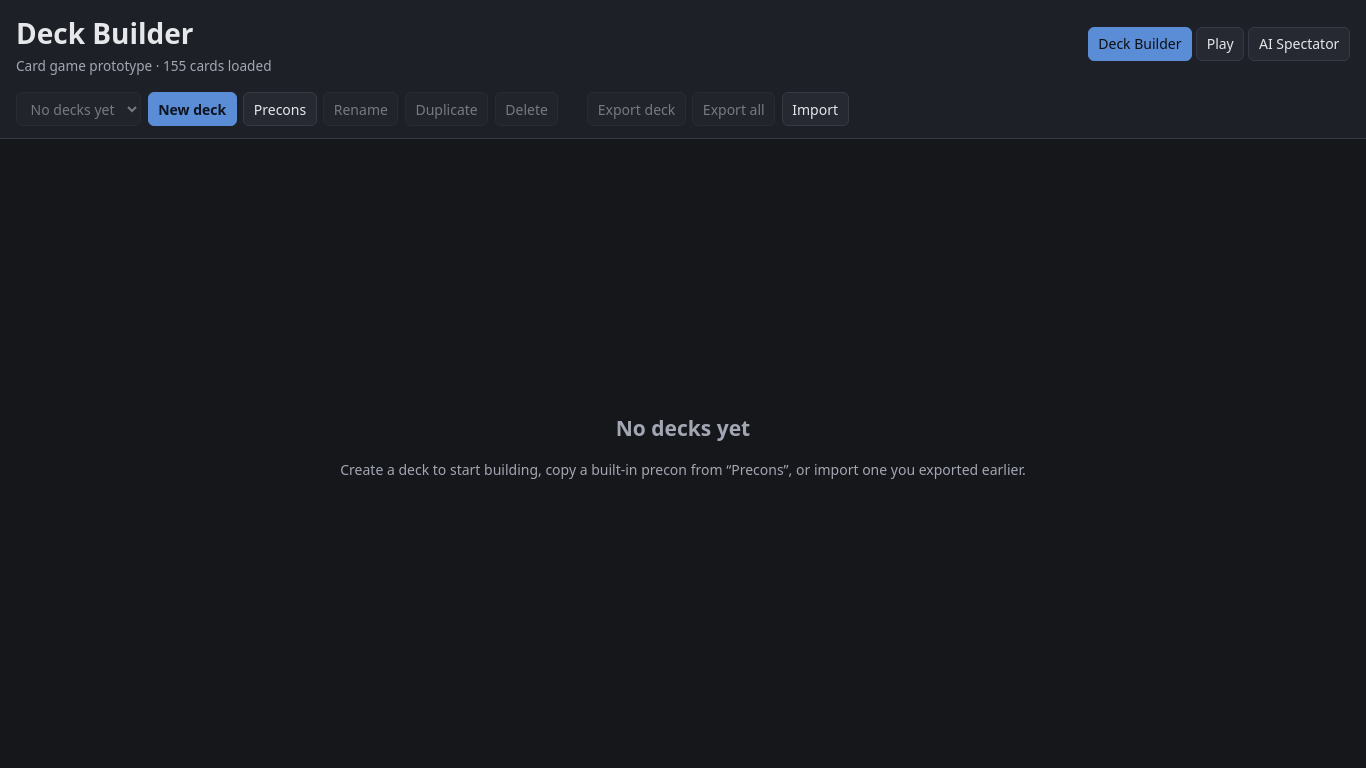
it: precon browser › inspects the Commander, the whole 40-card list and the permanent IDs
Click the button "Precons" at (280, 109), box [243,92,317,126]
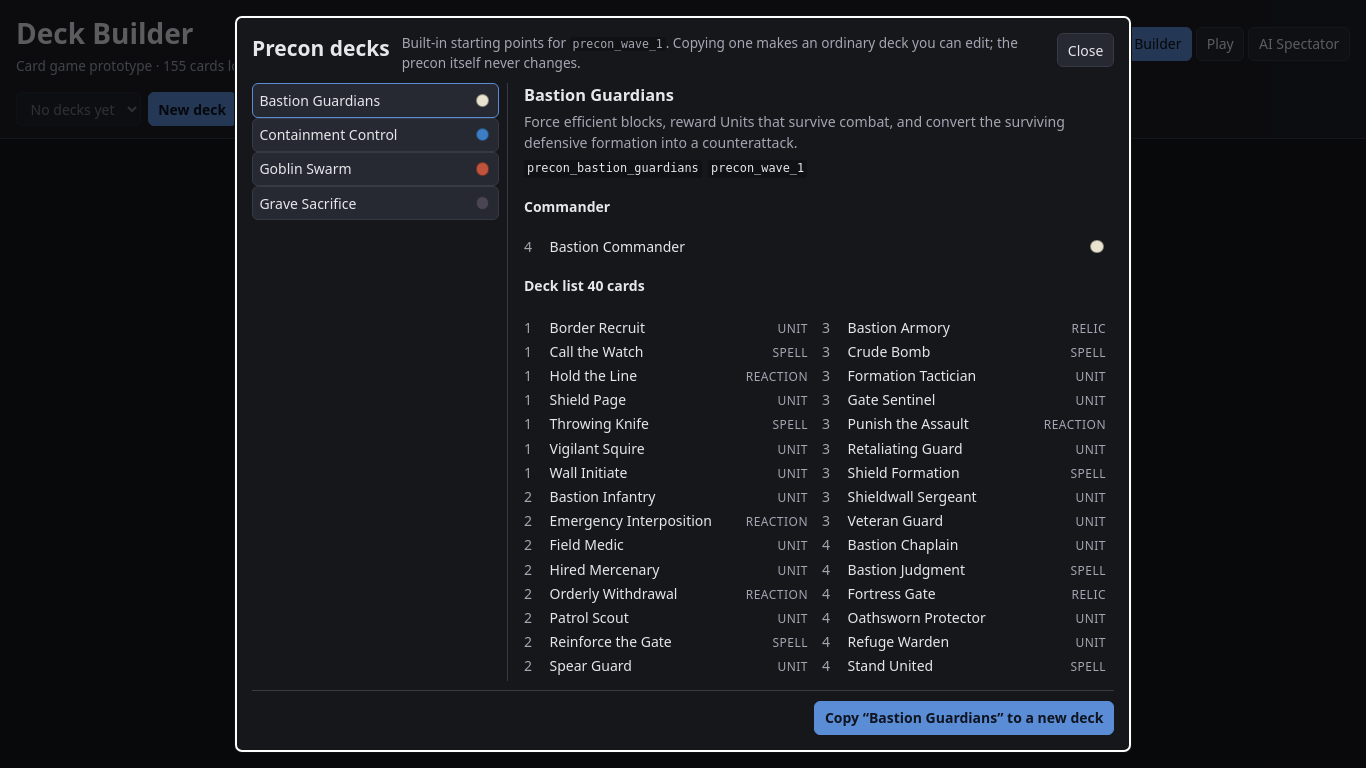
Click the button "Goblin Swarm" at (376, 169), box [252,152,499,186]
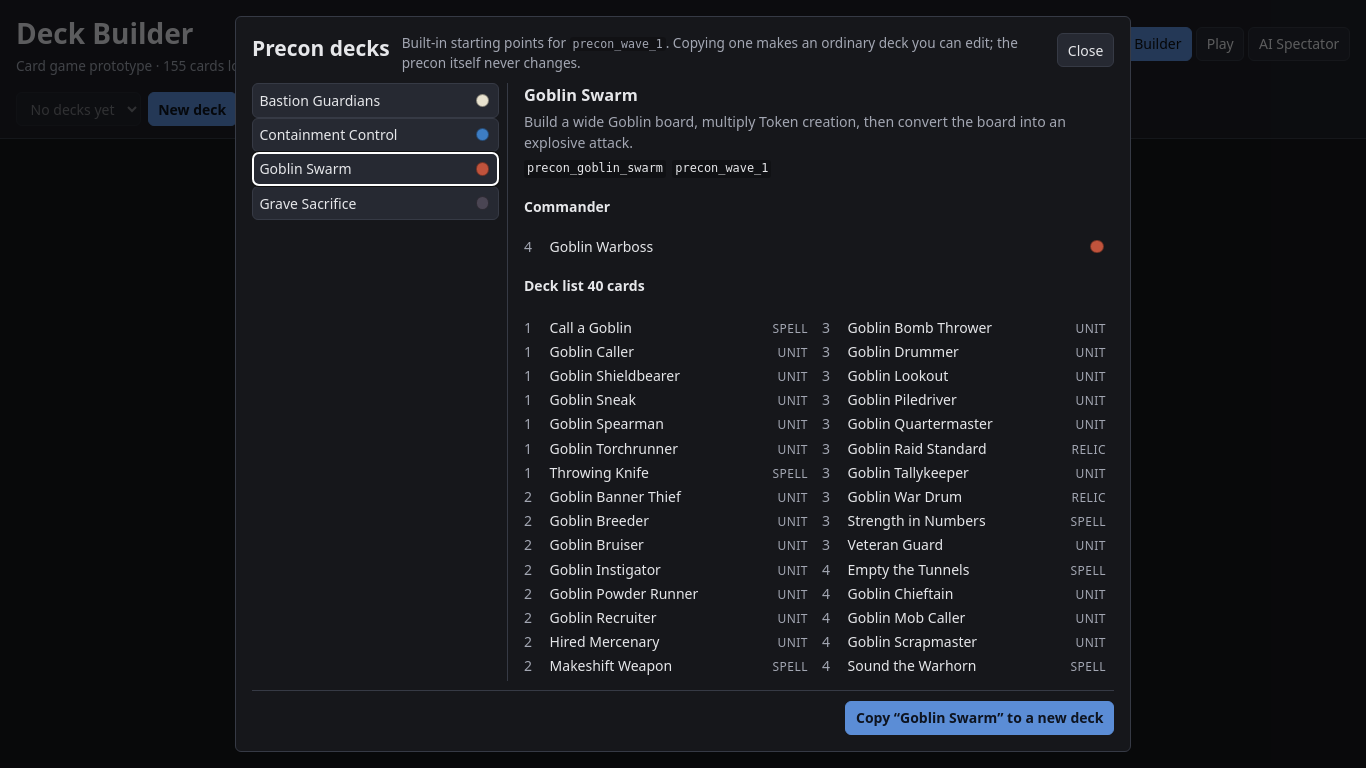
Expected: the text with test id "precon-size" reads "40 cards", [587,276,645,295]
Expected: the text "Goblin Warboss" is shown, [550,237,653,256]
Expected: the element with test id "precon-ids" shows "precon_goblin_swarm", [527,161,663,175]
